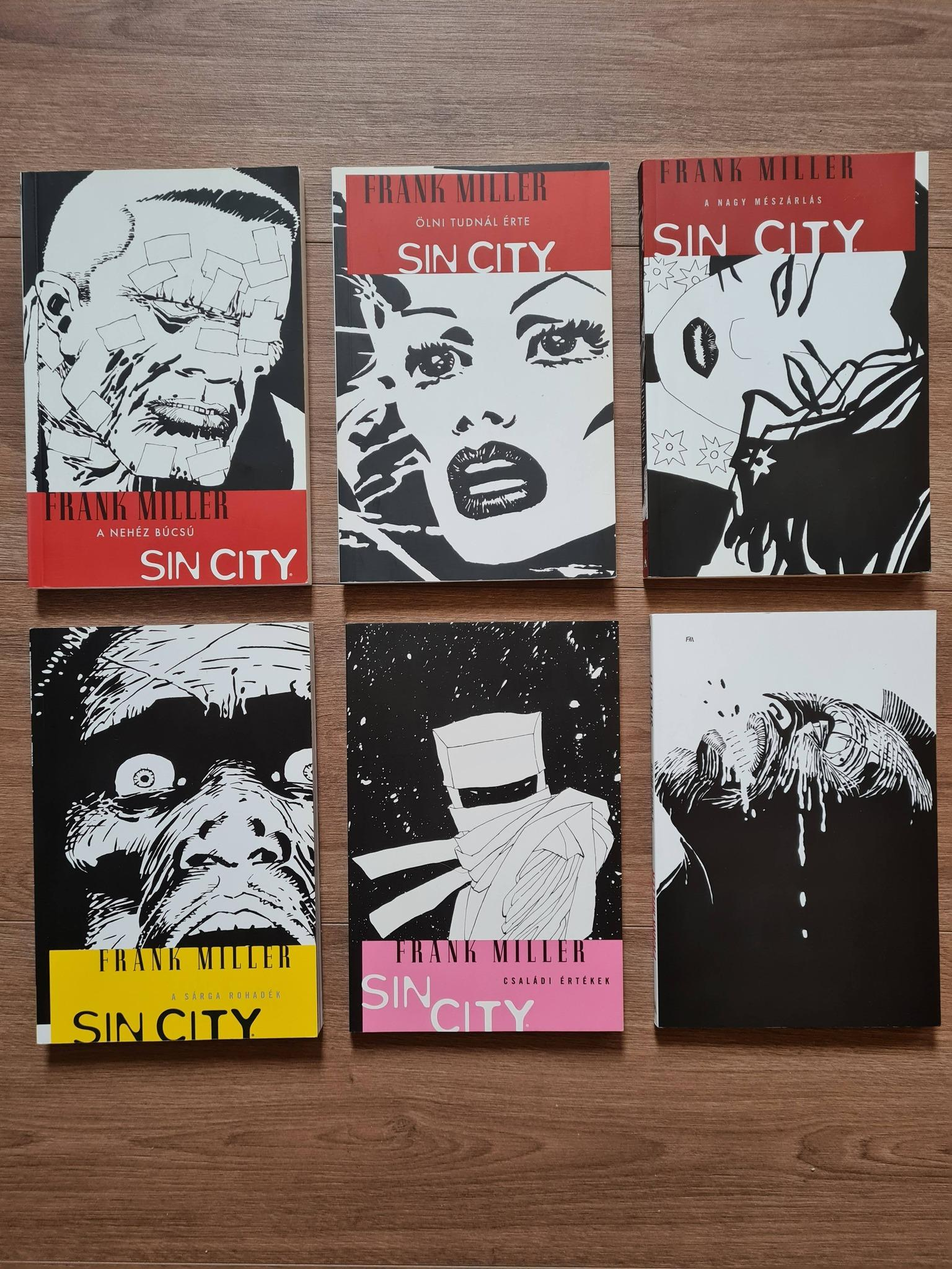comic: (28, 622, 321, 1044), (641, 152, 930, 576), (22, 167, 310, 590), (651, 611, 940, 1029), (334, 163, 615, 582), (347, 621, 622, 1033)
